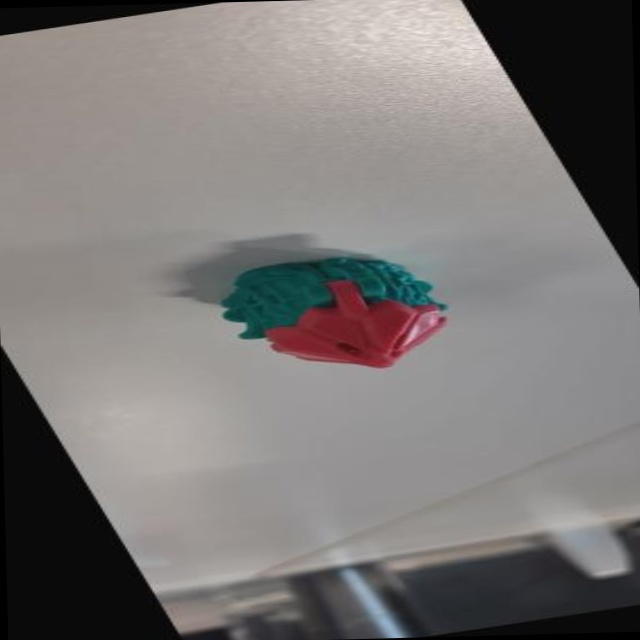House: (181, 239, 489, 396)
